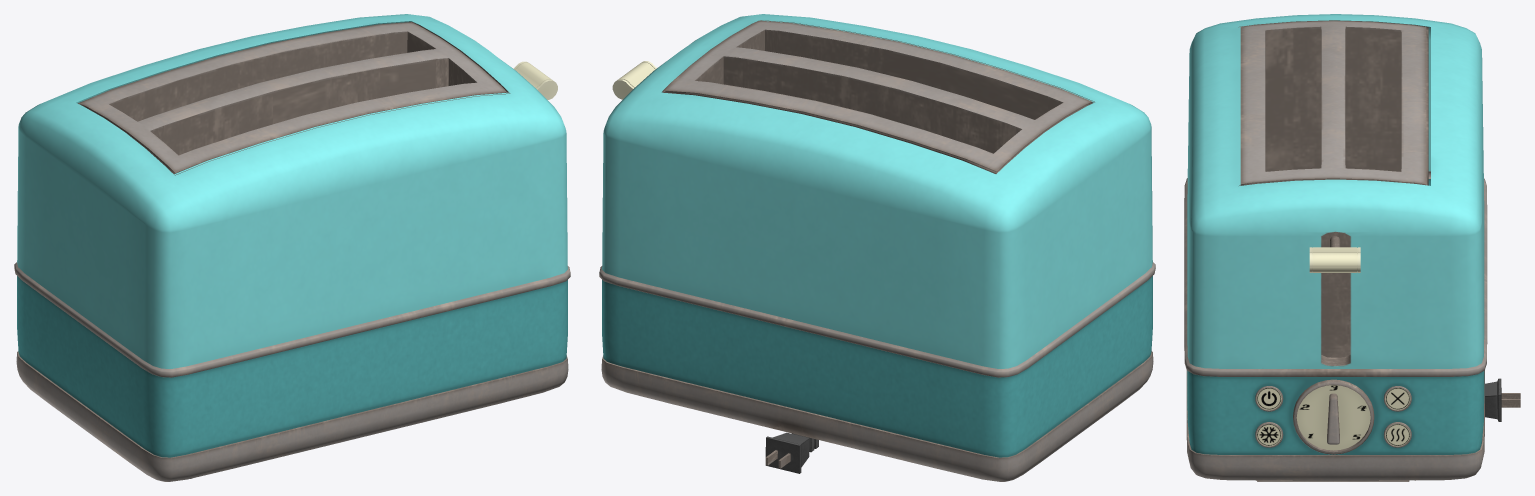
The model's file is Toster_Base.fbx.
3 renders of one model, left to right at view 1: azimuth 30°, elevation 25°; view 2: azimuth 150°, elevation 25°; view 3: azimuth 270°, elevation 25°, orthographic. The views are drawn at different scales.
Parts seen in each view (by area): view 1: Toaster, Handle; view 2: Toaster, Cable, Handle; view 3: Toaster, Handle, Cable.
Boxes of the visible parts, <box> form: Toaster: <box>14,14,570,481</box>; Handle: <box>513,61,557,99</box>; Toaster: <box>599,14,1155,481</box>; Cable: <box>765,432,818,473</box>; Handle: <box>612,61,656,99</box>; Toaster: <box>1184,14,1487,480</box>; Handle: <box>1309,236,1360,272</box>; Cable: <box>1485,378,1520,421</box>.
Size of the model in its own units: 2.34 by 1.6 by 1.52.
Materials: 2 (2 with a texture image).
